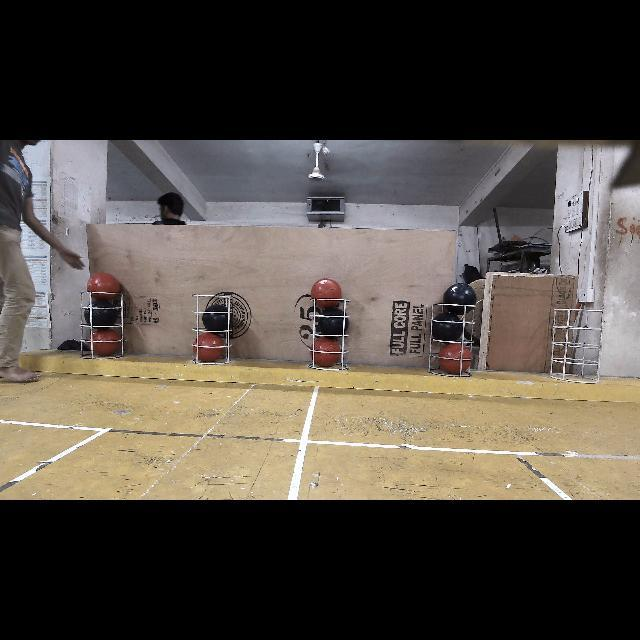P: (442, 282, 476, 315), (314, 308, 346, 336), (431, 314, 463, 341), (85, 300, 116, 326), (204, 305, 232, 331)
R: (310, 279, 345, 310), (86, 272, 120, 299), (440, 345, 472, 373), (87, 329, 119, 356), (194, 334, 222, 361), (312, 339, 341, 365)
S: (548, 307, 606, 387), (424, 300, 478, 378), (76, 287, 128, 361), (308, 294, 352, 374), (188, 292, 234, 368)
